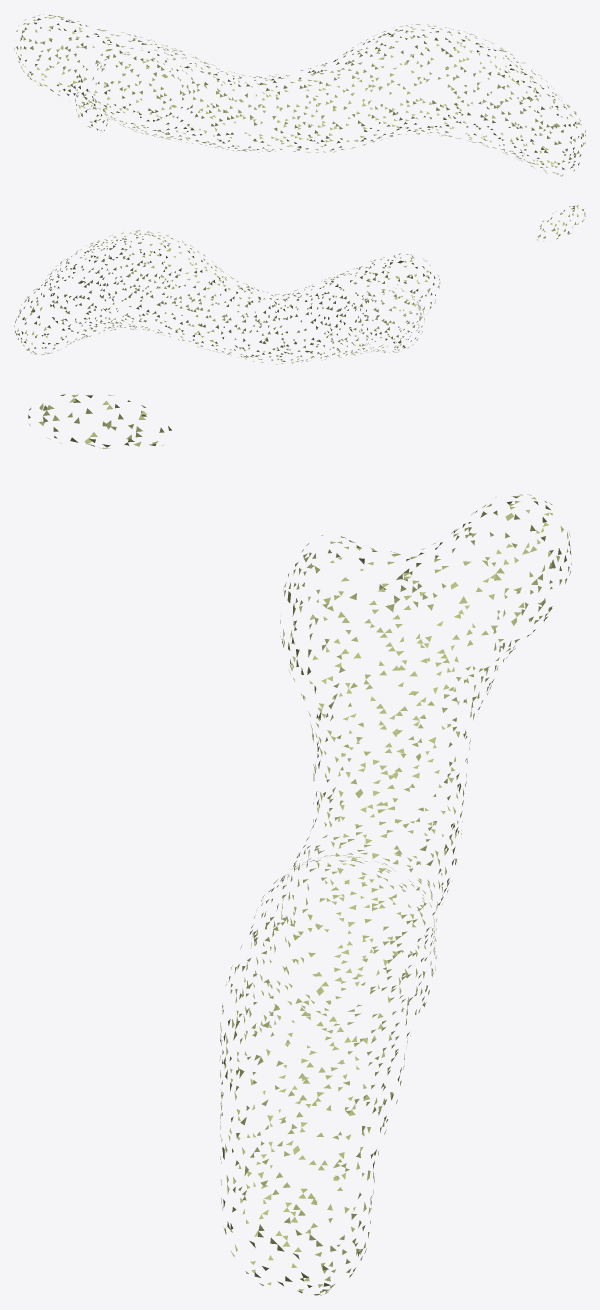
Rendered from morph_010.glb.
The picture shows the model from 3 angles, top to bottom: view 1: azimuth 30°, elevation 25°; view 2: azimuth 150°, elevation 25°; view 3: azimuth 270°, elevation 25°; orthographic projection. The views are drawn at different scales.
Size of the model in its own units: 109 by 45.91 by 51.53.
